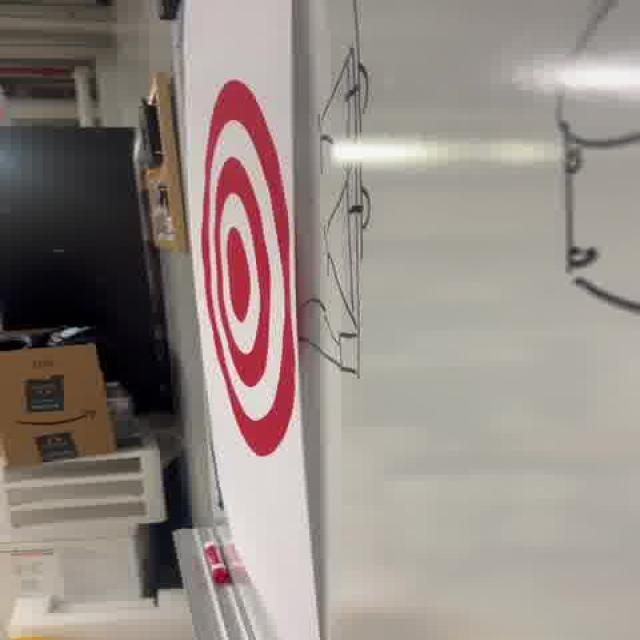target_red: (197, 81, 295, 456)
